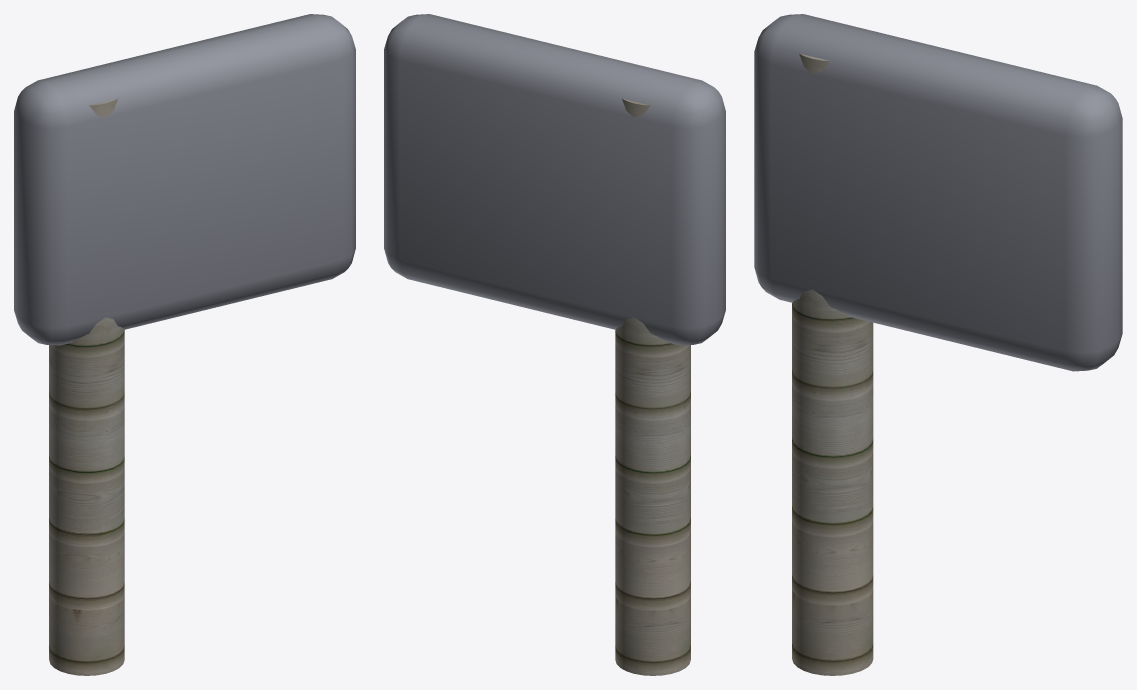
The model's file is axe.glb.
The picture shows the model from 3 angles, left to right: view 1: azimuth 30°, elevation 25°; view 2: azimuth 150°, elevation 25°; view 3: azimuth 330°, elevation 25°; orthographic projection. The views are drawn at different scales.
Visible parts, largest first — view 1: blade, handle; view 2: blade, handle; view 3: blade, handle.
Part boxes in pixels (x1,y1,x2,y2): blade: (14,14,355,345); handle: (49,98,124,675); blade: (384,14,725,345); handle: (615,98,690,675); blade: (754,14,1122,371); handle: (792,53,873,675).
Bounding box in the file's own units: 0.6 × 1.02 × 0.12.
2 materials, 1 textured.
